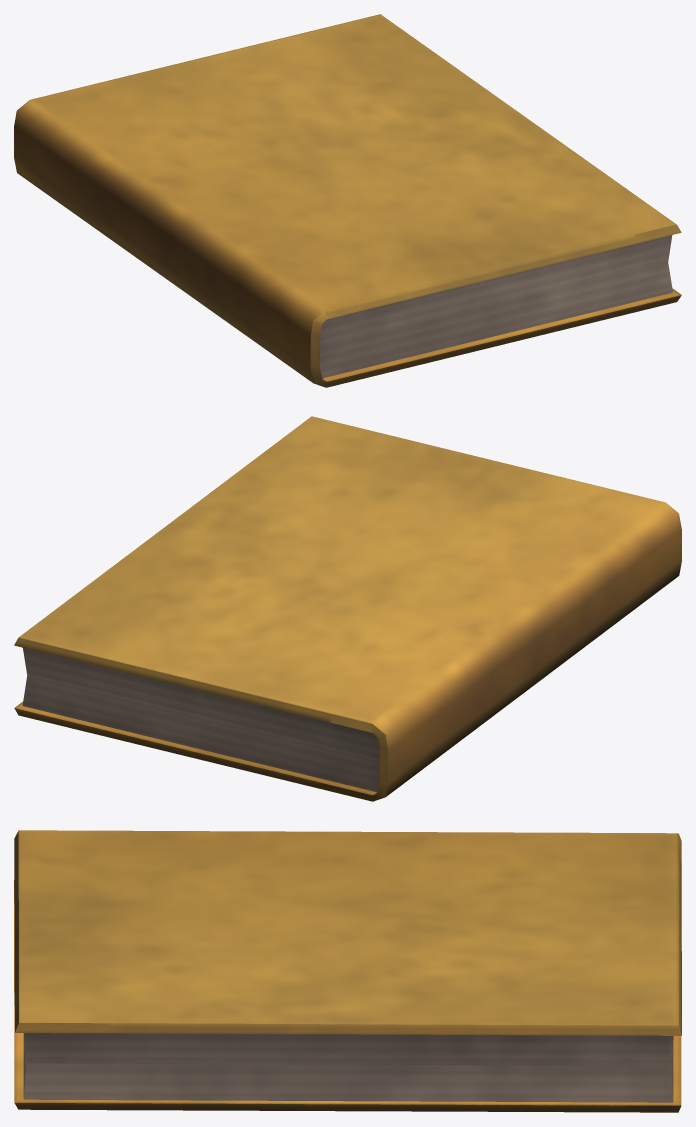
Rendered from SM_Book_04.fbx.
3 views of the same model, one above another, from view 1: azimuth 30°, elevation 25°; view 2: azimuth 150°, elevation 25°; view 3: azimuth 270°, elevation 25° (orthographic). The views are drawn at different scales.
Parts seen in each view (by area): view 1: SM_Book_04_LOD0; view 2: SM_Book_04_LOD0; view 3: SM_Book_04_LOD0.
Part boxes in pixels (x1=…): SM_Book_04_LOD0: x1=14, y1=14, x2=681, y2=387; SM_Book_04_LOD0: x1=14, y1=416, x2=681, y2=801; SM_Book_04_LOD0: x1=14, y1=830, x2=681, y2=1112.
Size of the model in its own units: 18.74 by 25.9 by 3.91.
1 material, 1 textured.
